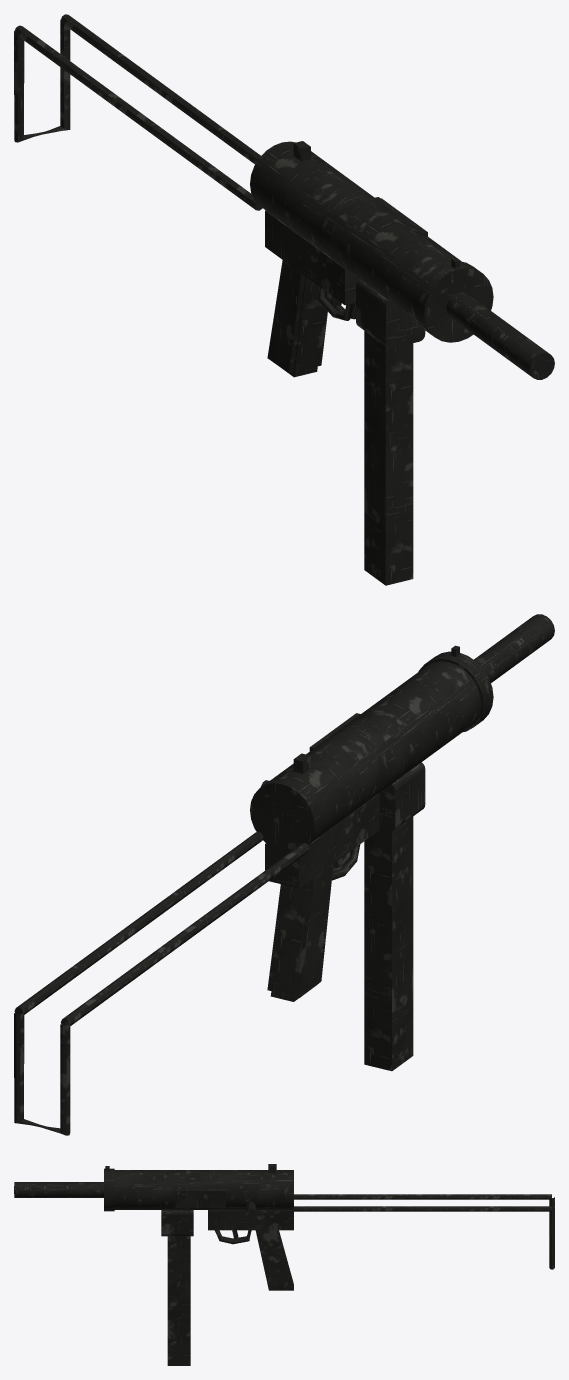
Rendered from greasegun.glb.
3 renders of one model, top to bottom at view 1: azimuth 30°, elevation 25°; view 2: azimuth 150°, elevation 25°; view 3: azimuth 270°, elevation 25°, orthographic. The views are drawn at different scales.
Visible parts, largest first — view 1: M3_Grease_Gun; view 2: M3_Grease_Gun; view 3: M3_Grease_Gun.
Part boxes in pixels (x1,y1,x2,y2): M3_Grease_Gun: (14,14,554,585); M3_Grease_Gun: (14,614,554,1135); M3_Grease_Gun: (14,1164,554,1365).
Size of the model in its own units: 0.08 by 0.303 by 0.7545.
Materials: 2 (1 with a texture image).
